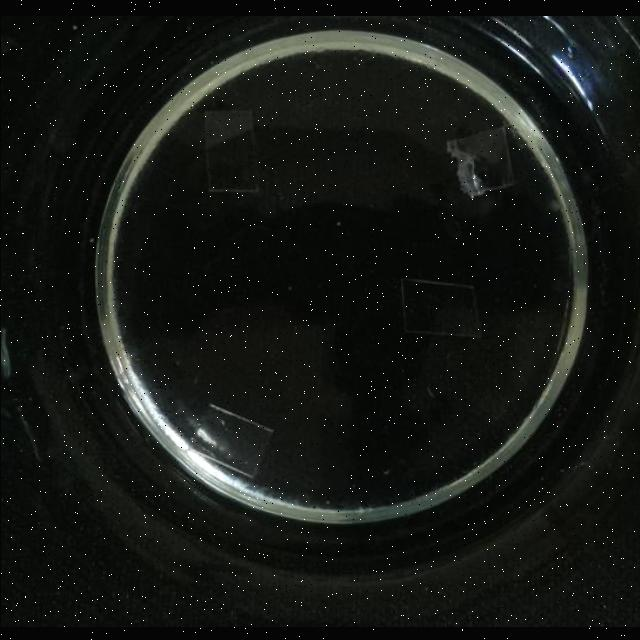Film: (184, 398, 270, 477), (202, 100, 268, 196), (398, 266, 482, 336), (445, 121, 523, 195)
